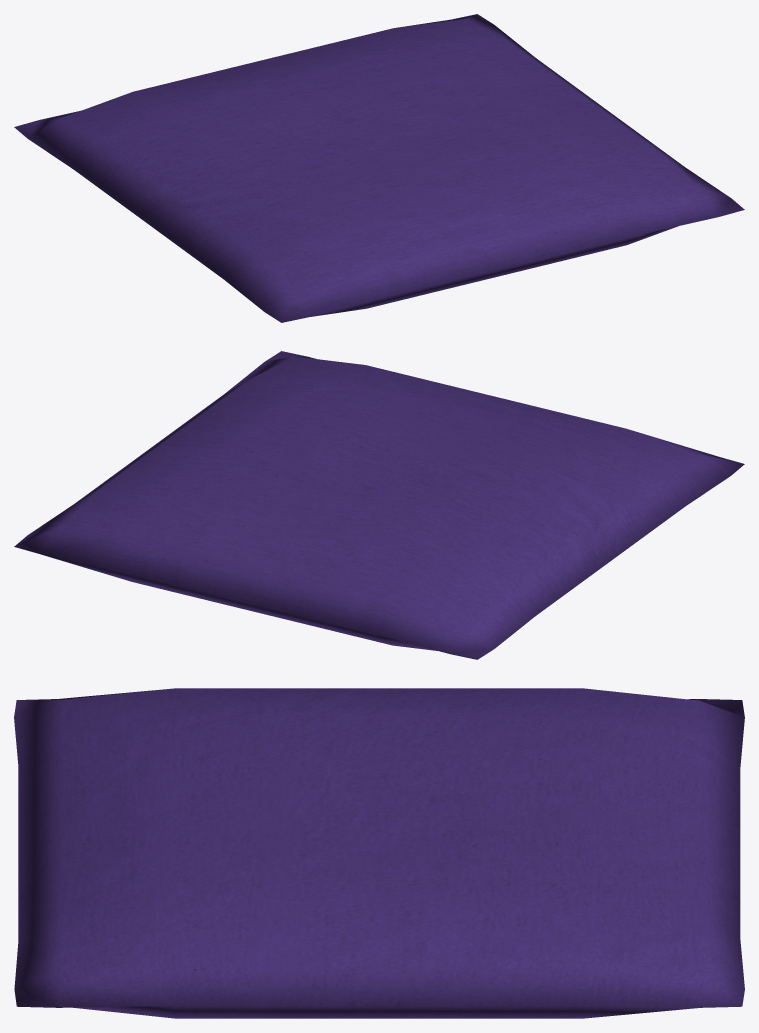
The model's file is zabuton.fbx.
3 renders of one model, top to bottom at view 1: azimuth 30°, elevation 25°; view 2: azimuth 150°, elevation 25°; view 3: azimuth 270°, elevation 25°, orthographic. The views are drawn at different scales.
Visible parts, largest first — view 1: 平面; view 2: 平面; view 3: 平面.
Part boxes in pixels (x1=…): 平面: x1=14, y1=14, x2=744, y2=322; 平面: x1=14, y1=351, x2=744, y2=659; 平面: x1=14, y1=688, x2=744, y2=1018.
Size of the model in its own units: 368 by 58.85 by 368.
